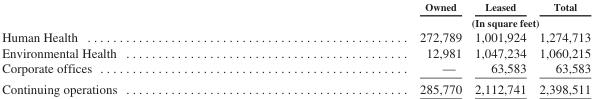table: (1, 0, 590, 95)
table column: (1, 0, 267, 95), (267, 0, 467, 95), (467, 0, 532, 95), (532, 0, 590, 95)
table column header: (1, 0, 590, 28)
table row: (1, 60, 590, 78), (1, 78, 590, 95), (1, 28, 590, 44), (1, 44, 590, 60), (1, 0, 590, 14), (1, 14, 590, 28)
table spanning cell: (267, 14, 590, 28)
